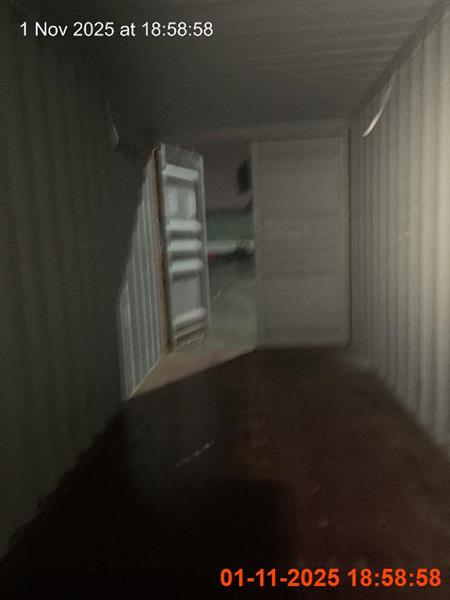hole: (0, 346, 449, 598)
